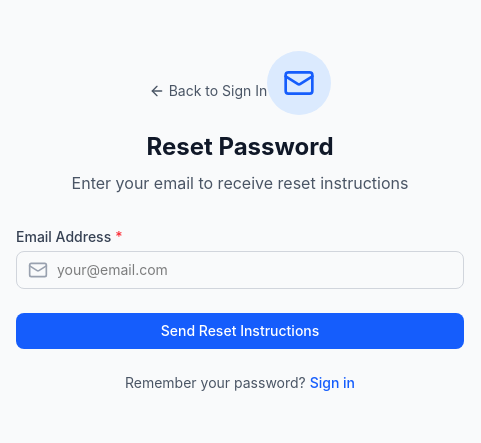
Test: ForgotPasswordPage › shows error when email is invalid
Type "invalid-email" into the field with placeholder "your@email.com" at (240, 270), box x1=16 y1=251 x2=464 y2=289
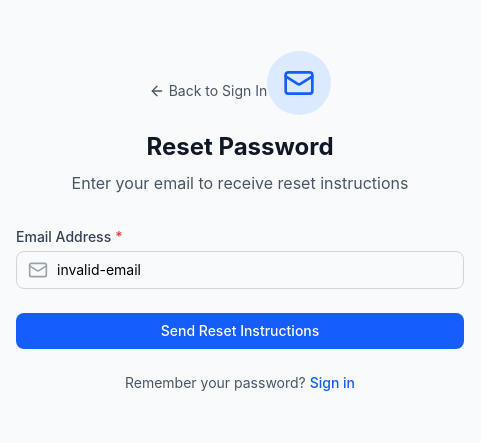
Click the button "Send Reset Instructions" at (240, 331), box x1=16 y1=313 x2=464 y2=349
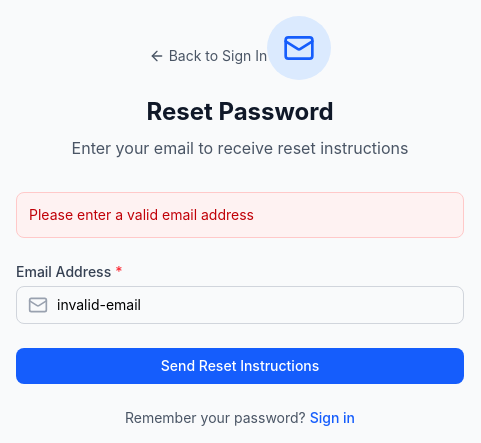
Check: the text "Please enter a valid email address" is shown, box x1=16 y1=192 x2=464 y2=238
